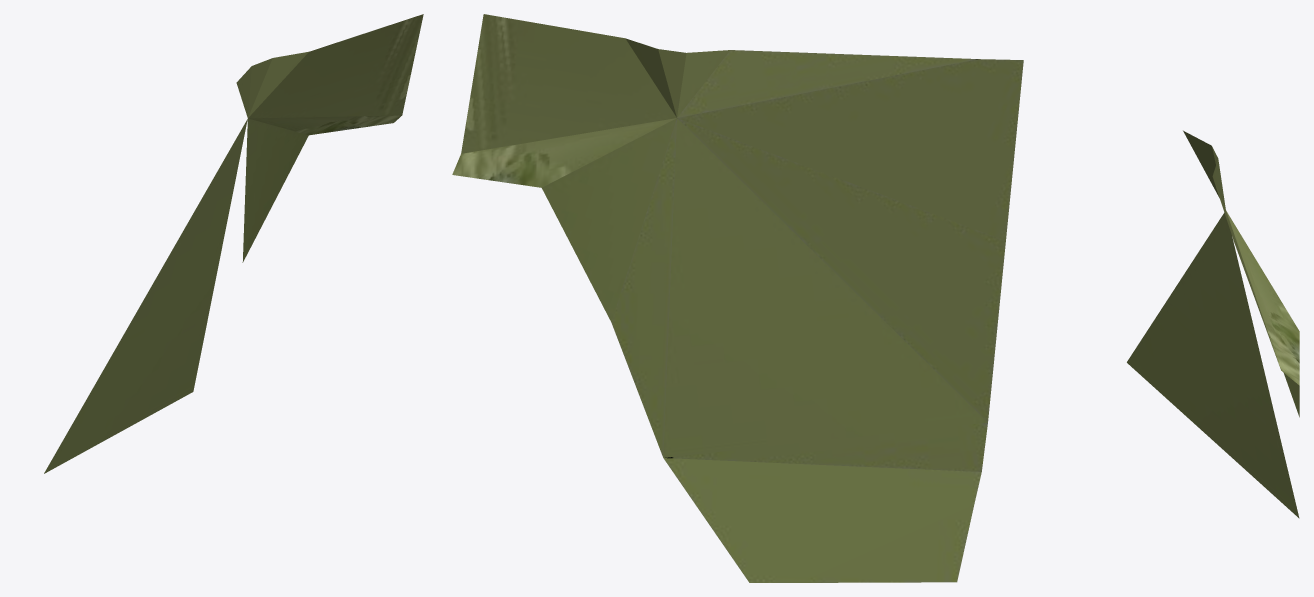
3 renders of one model, left to right at view 1: azimuth 30°, elevation 25°; view 2: azimuth 150°, elevation 25°; view 3: azimuth 270°, elevation 25°, orthographic. The views are drawn at different scales.
Bounding box in the file's own units: 2.95 × 2.95 × 1.35.
2 materials, 2 textured.
